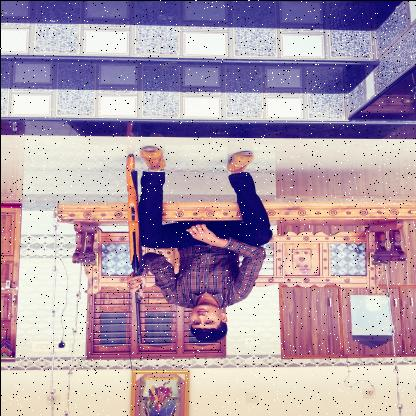rifle: (120, 151, 144, 343)
